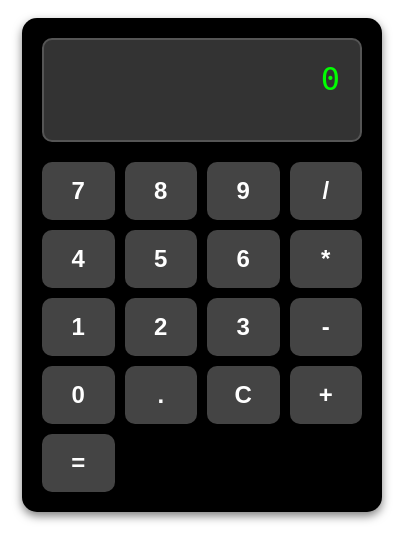
Test: Appends the number when pressed
press a 1 on the calculator
Click the button "1" at [78, 327], box [42, 298, 114, 356]
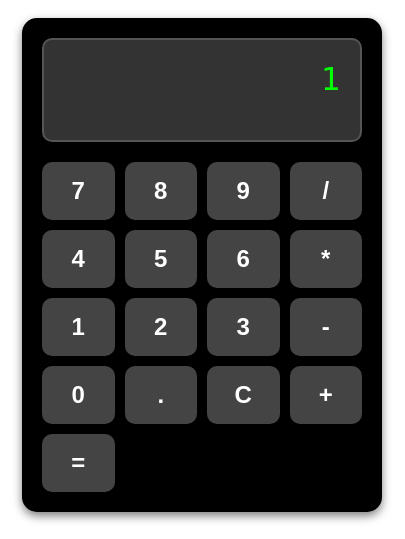
Now the text with test id "total" reads "1", box [321, 60, 340, 98]
press a 2 on the calculator
Click the button "2" at [161, 327], box [124, 298, 197, 356]
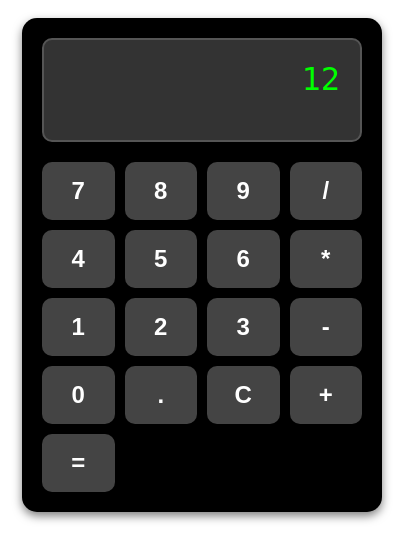
Now the text with test id "total" reads "12", box [302, 60, 340, 98]
